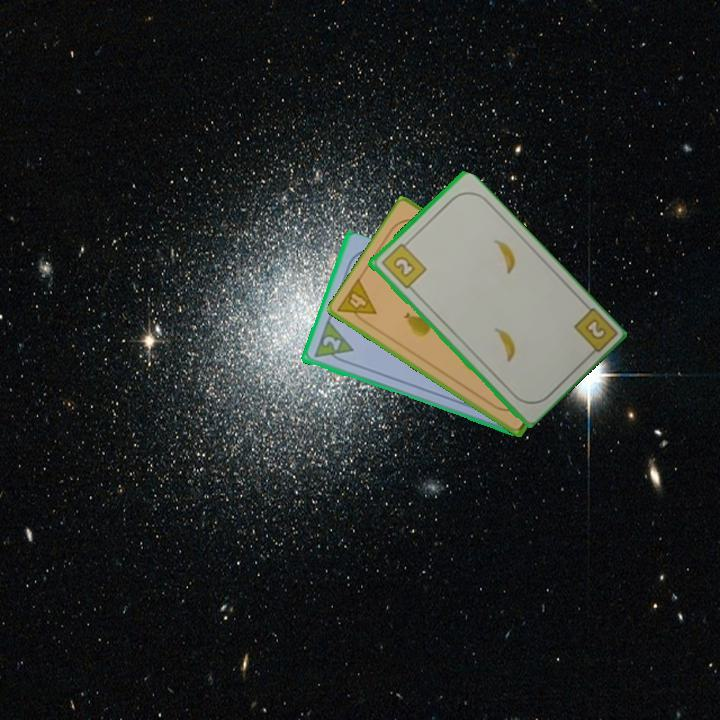2b: (377, 237, 429, 292), (570, 304, 618, 362)
2p: (310, 318, 356, 367)
4p: (334, 275, 379, 329)
